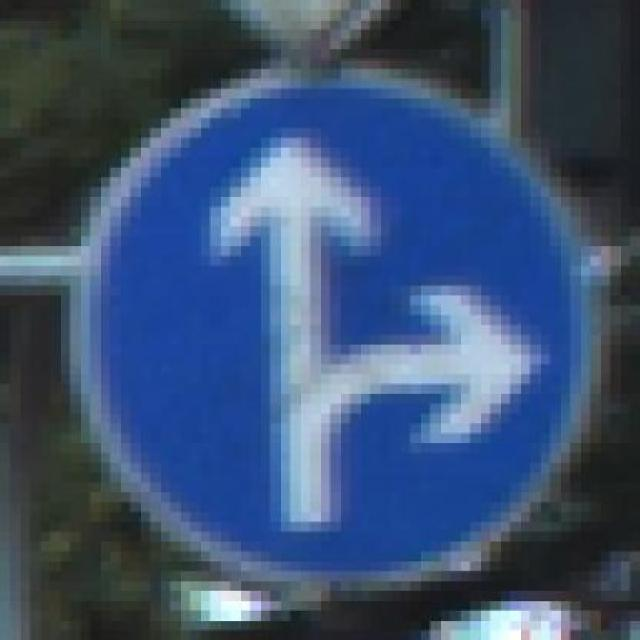Go Straight or Turn Right: (60, 69, 611, 591)
